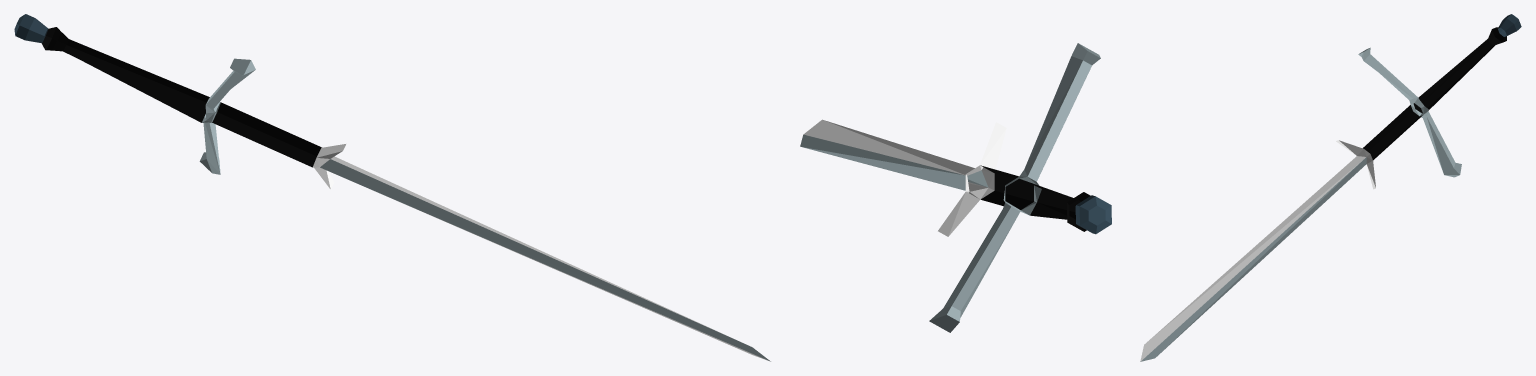
File: Evil Knight Sword.obj
The picture shows the model from 3 angles, left to right: view 1: azimuth 30°, elevation 25°; view 2: azimuth 150°, elevation 25°; view 3: azimuth 270°, elevation 25°; orthographic projection. The views are drawn at different scales.
Bounding box in the file's own units: 1.23 × 0.6544 × 1.2.
